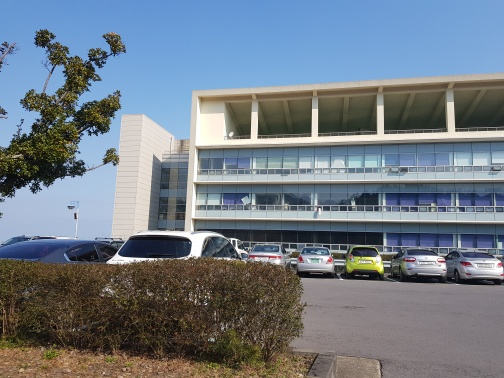Engineering College Building 4: (118, 83, 504, 239), (194, 91, 500, 238), (121, 108, 186, 225)
